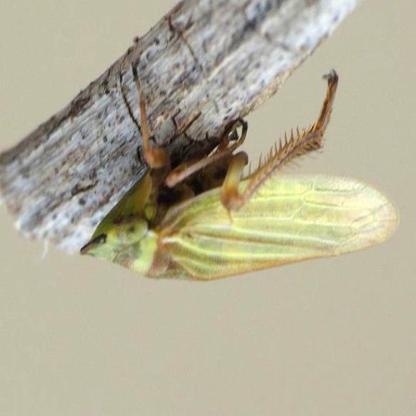green-leafhopper: (82, 66, 406, 280)
